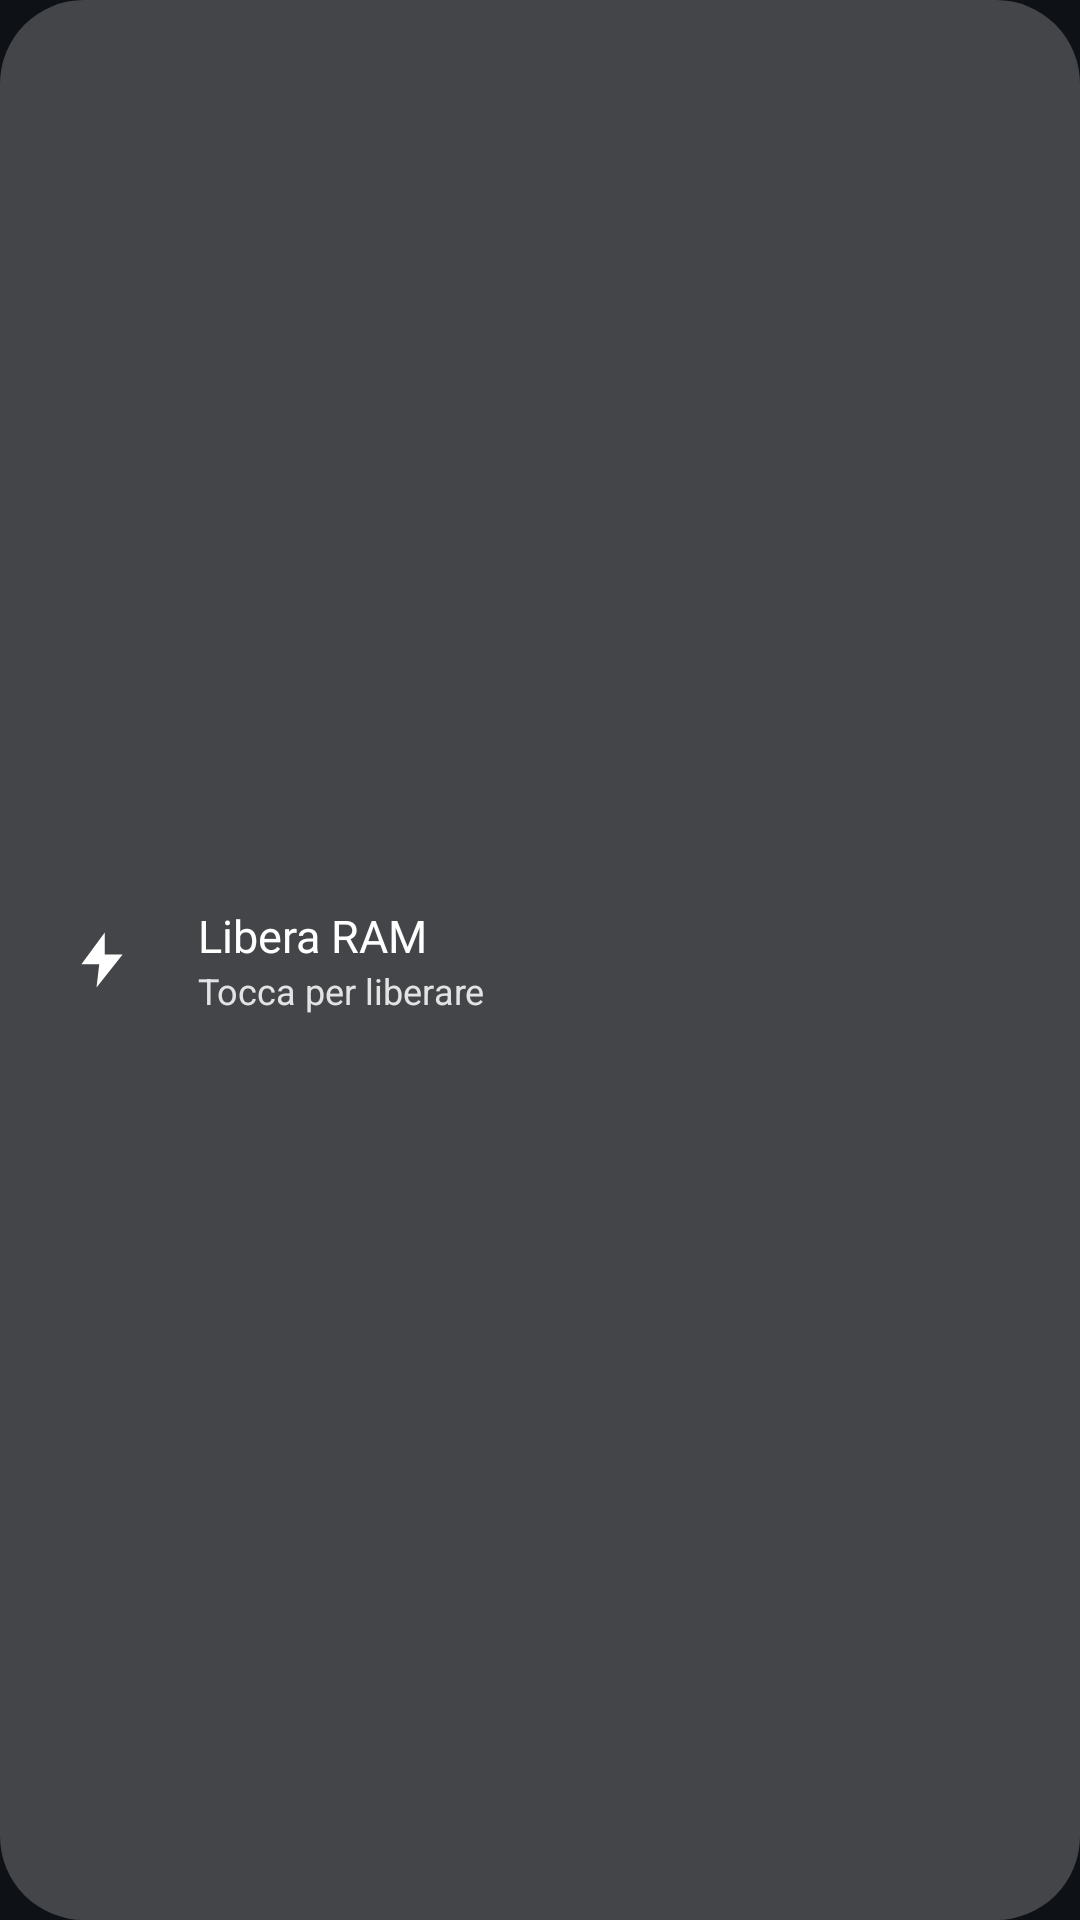

Icon bounding boxes for this 1080x1920 phone screenshot, format (x1, y1, x2, y2):
bolt: (81, 933, 123, 987)
